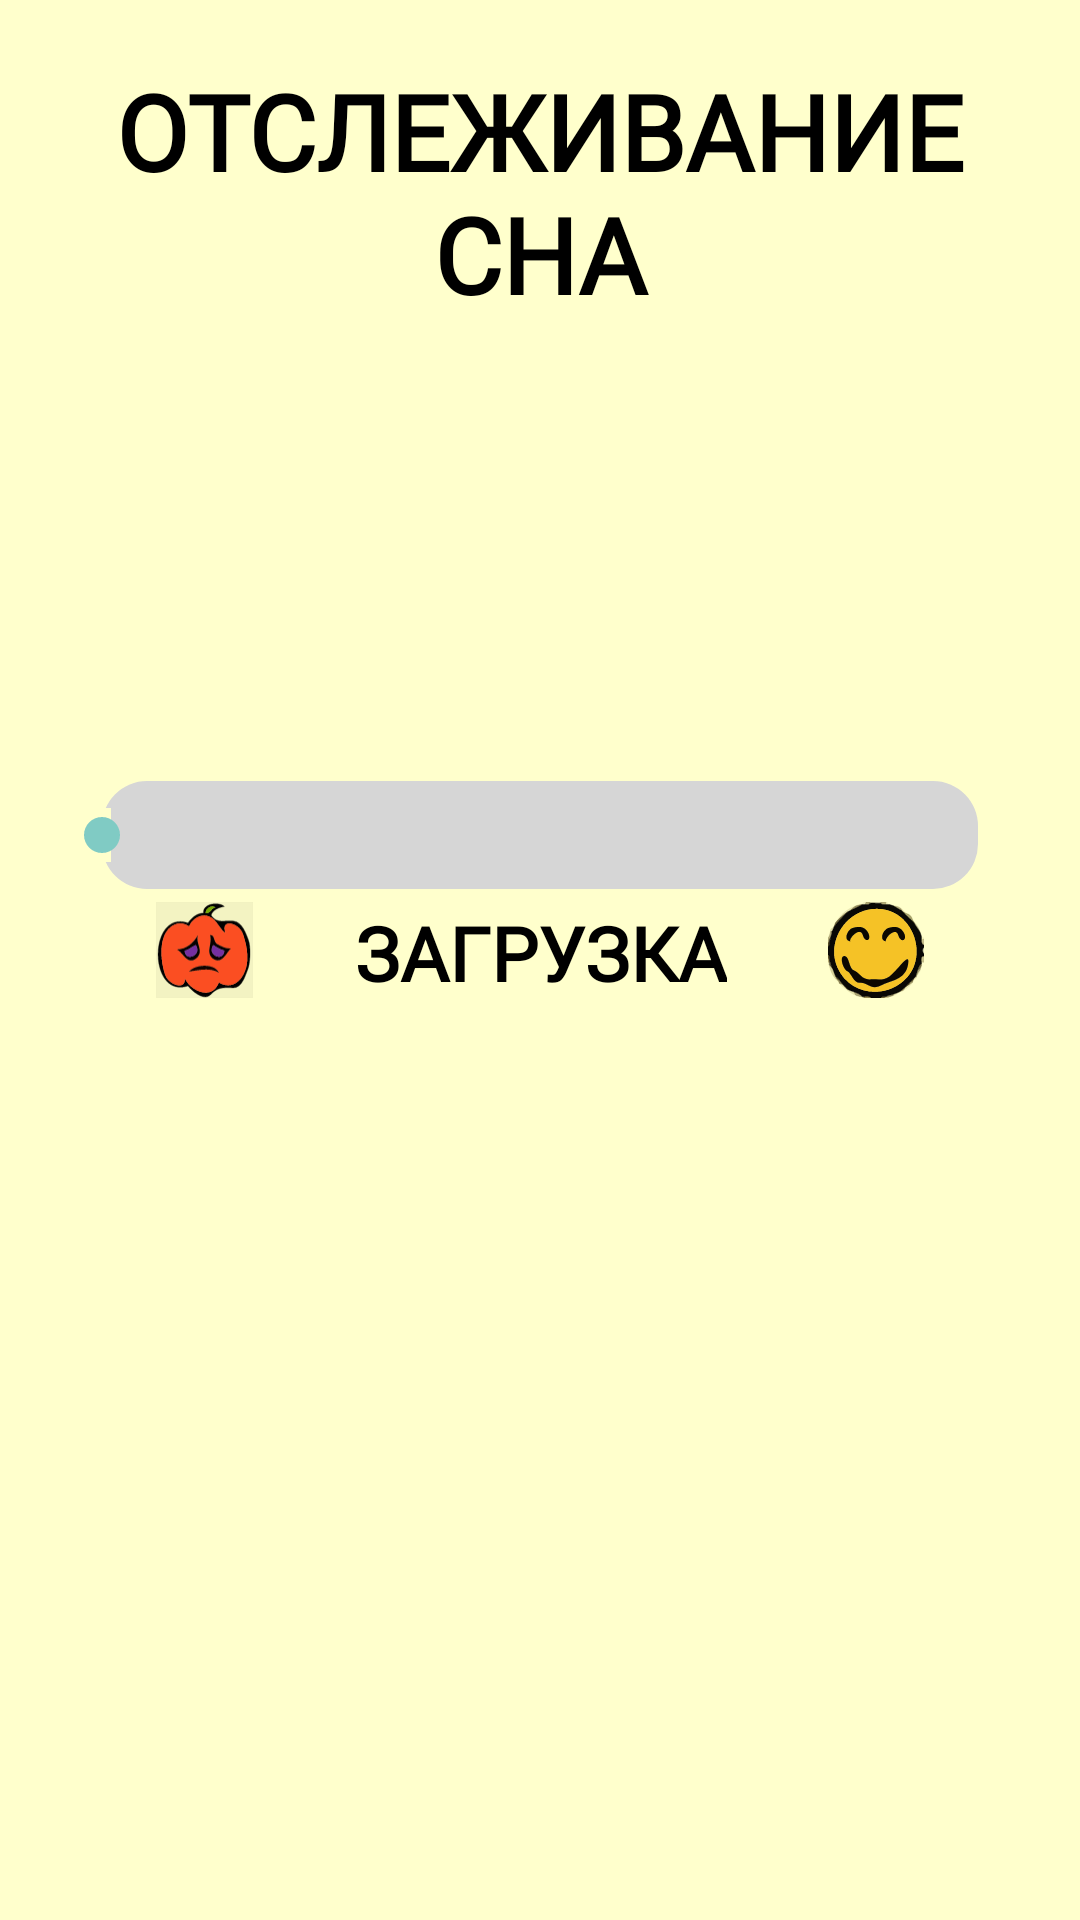

Point at icon controls on the screen. Image size 1080*1920, points as (x=x, y=y).
smile emoji: (x=876, y=950)
